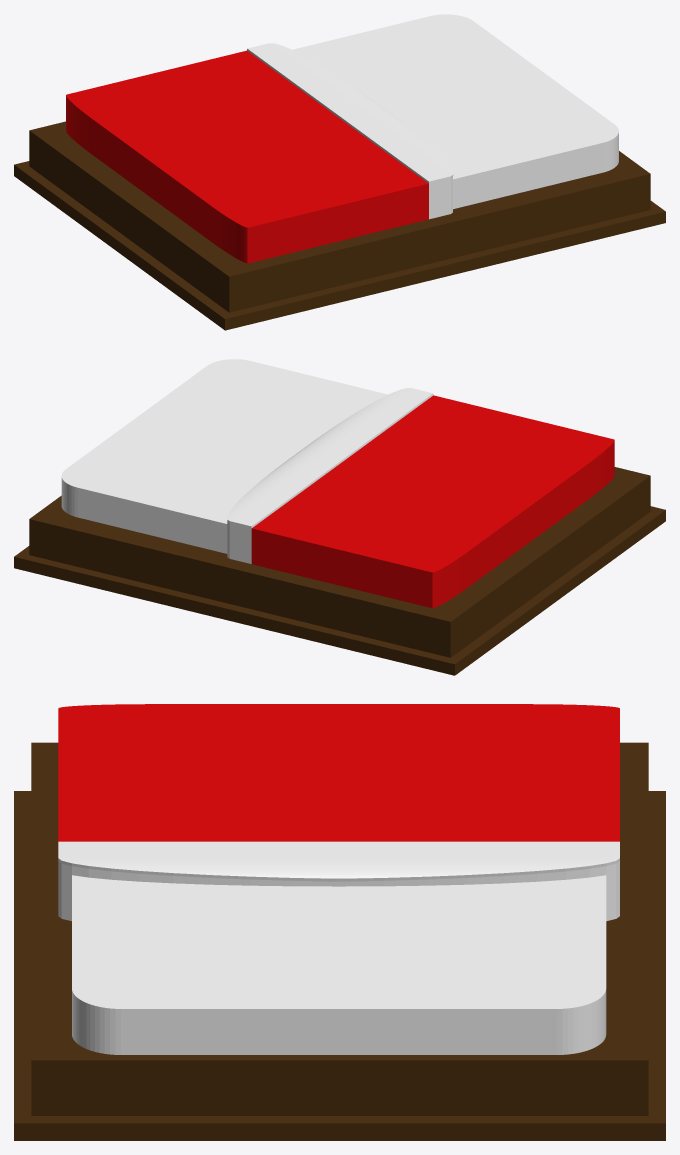
The model's file is BED.glb.
The picture shows the model from 3 angles, top to bottom: view 1: azimuth 30°, elevation 25°; view 2: azimuth 150°, elevation 25°; view 3: azimuth 270°, elevation 25°; orthographic projection. The views are drawn at different scales.
Parts seen in each view (by area): view 1: blanket.col.001, Cube, Cube.col, blanket.col; view 2: blanket.col.001, Cube, Cube.col, blanket.col; view 3: Cube.col, Cube, blanket.col.001, blanket.col.
Part boxes in pixels (x1,y1,x2,y2): blanket.col.001: (66,50,428,263); Cube: (14,121,665,330); Cube.col: (292,14,618,209); blanket.col: (247,43,453,219); blanket.col.001: (251,395,614,608); Cube: (14,467,665,675); Cube.col: (61,359,387,553); blanket.col: (227,388,433,563); Cube.col: (72,875,606,1054); Cube: (14,742,665,1140); blanket.col.001: (58,704,619,841); blanket.col: (58,841,619,921).
Size of the model in its own units: 2.31 by 0.4263 by 1.91.
